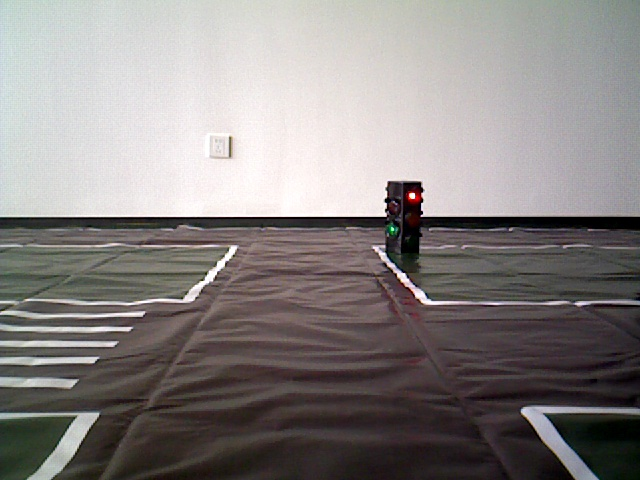red: (385, 184, 419, 263)
